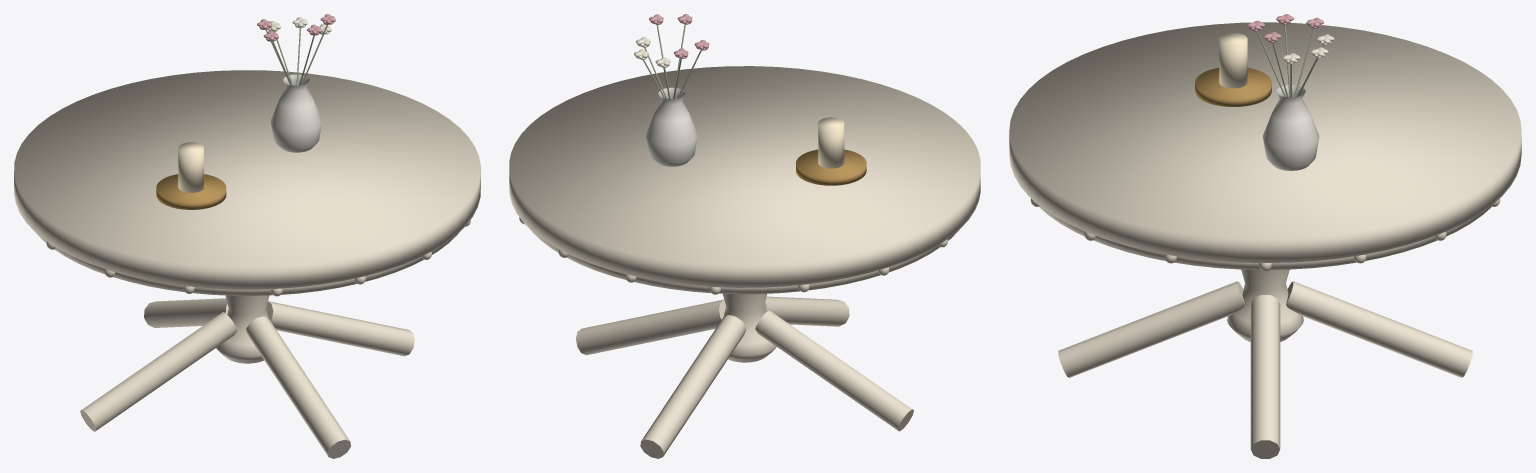
File: coffee.glb
3 views of the same model, side by side, from view 1: azimuth 30°, elevation 25°; view 2: azimuth 150°, elevation 25°; view 3: azimuth 270°, elevation 25° (orthographic). The views are drawn at different scales.
Visible parts, largest first — view 1: coffee__Warm aged ivory lacquer, coffee__Glazed ivory ceramic, coffee__Antique brass, coffee__Ivory beeswax, coffee__Sage linen, coffee__Dusty rose washed cotton; view 2: coffee__Warm aged ivory lacquer, coffee__Glazed ivory ceramic, coffee__Antique brass, coffee__Ivory beeswax, coffee__Sage linen, coffee__Dusty rose washed cotton; view 3: coffee__Warm aged ivory lacquer, coffee__Glazed ivory ceramic, coffee__Antique brass, coffee__Ivory beeswax, coffee__Sage linen, coffee__Dusty rose washed cotton.
Part boxes in pixels (x1,y1,x2,y2): coffee__Warm aged ivory lacquer: [14, 70, 480, 458]; coffee__Glazed ivory ceramic: [270, 74, 322, 152]; coffee__Antique brass: [156, 174, 226, 209]; coffee__Ivory beeswax: [178, 142, 203, 192]; coffee__Sage linen: [265, 25, 327, 85]; coffee__Dusty rose washed cotton: [257, 14, 335, 41]; coffee__Warm aged ivory lacquer: [509, 66, 980, 458]; coffee__Glazed ivory ceramic: [646, 87, 697, 166]; coffee__Antique brass: [796, 149, 866, 185]; coffee__Ivory beeswax: [818, 117, 844, 168]; coffee__Sage linen: [643, 24, 701, 98]; coffee__Dusty rose washed cotton: [649, 14, 709, 58]; coffee__Warm aged ivory lacquer: [1009, 22, 1521, 458]; coffee__Glazed ivory ceramic: [1263, 85, 1319, 170]; coffee__Antique brass: [1195, 67, 1271, 106]; coffee__Ivory beeswax: [1219, 33, 1247, 88]; coffee__Sage linen: [1256, 25, 1324, 97]; coffee__Dusty rose washed cotton: [1247, 14, 1324, 43].
Bounding box in the file's own units: 0.8 × 0.6682 × 0.8.
